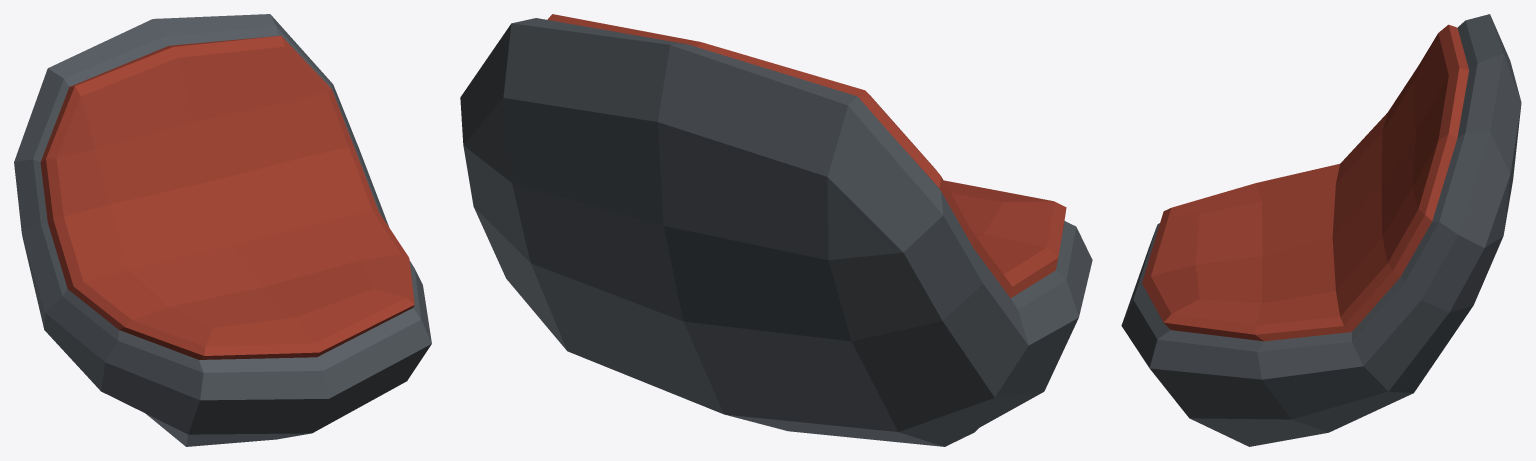
Rendered from Personal_Vehicle_01_Seat_Red.fbx.
3 views of the same model, side by side, from view 1: azimuth 30°, elevation 25°; view 2: azimuth 150°, elevation 25°; view 3: azimuth 270°, elevation 25° (orthographic). The views are drawn at different scales.
Visible parts, largest first — view 1: Personal_Vehicle_01_Seat_Red; view 2: Personal_Vehicle_01_Seat_Red; view 3: Personal_Vehicle_01_Seat_Red.
Part boxes in pixels (box(x1,y1,x2,y2)): Personal_Vehicle_01_Seat_Red: box(14, 14, 431, 446); Personal_Vehicle_01_Seat_Red: box(460, 14, 1092, 446); Personal_Vehicle_01_Seat_Red: box(1121, 14, 1521, 446).
Bounding box in the file's own units: 90.56 × 82.85 × 83.99.
Materials: 1 (1 with a texture image).
